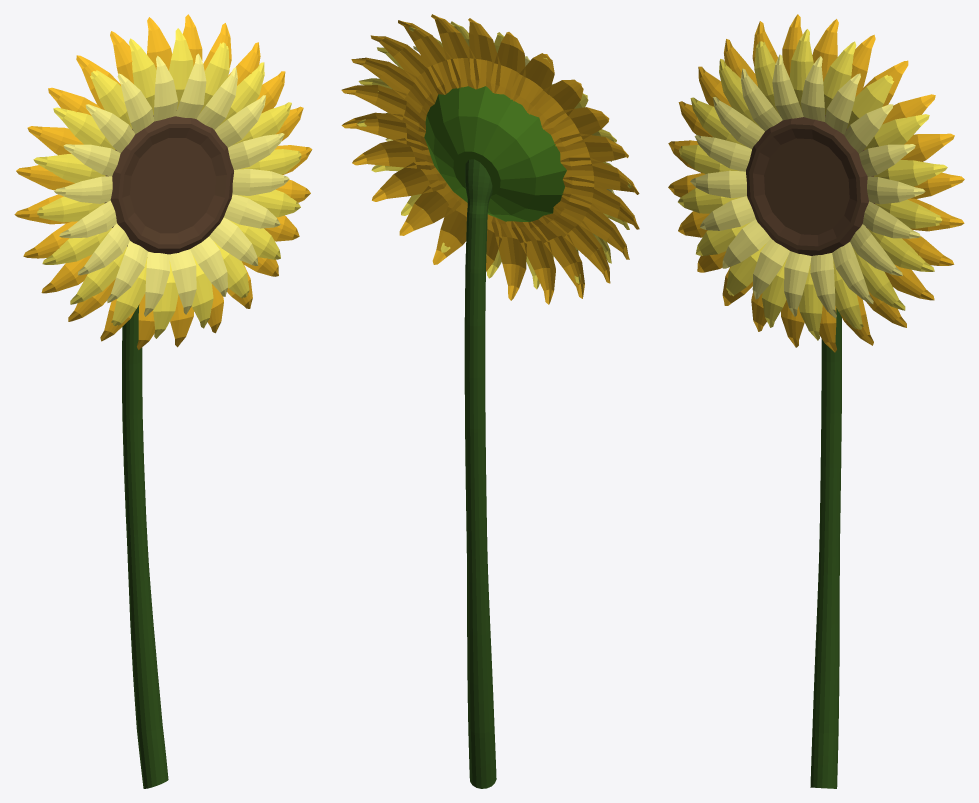
Rendered from flower3.fbx.
The picture shows the model from 3 angles, left to right: view 1: azimuth 30°, elevation 25°; view 2: azimuth 150°, elevation 25°; view 3: azimuth 330°, elevation 25°; orthographic projection.
Parts seen in each view (by area): view 1: top petals, mid petals, bottom petals, base, Circle; view 2: bottom petals, Circle, base, mid petals; view 3: top petals, mid petals, bottom petals, base, Circle.
Boxes of the visible parts, bbox=[...] form: top petals: bbox=[54, 53, 289, 316]; mid petals: bbox=[33, 28, 301, 338]; bottom petals: bbox=[14, 14, 312, 349]; base: bbox=[104, 110, 233, 254]; Circle: bbox=[122, 304, 168, 788]; bottom petals: bbox=[341, 14, 639, 304]; Circle: bbox=[464, 159, 496, 788]; base: bbox=[424, 86, 566, 221]; mid petals: bbox=[357, 21, 631, 289]; top petals: bbox=[690, 54, 925, 318]; mid petals: bbox=[678, 29, 947, 340]; bottom petals: bbox=[668, 14, 964, 352]; base: bbox=[746, 111, 875, 255]; Circle: bbox=[810, 308, 841, 788].
Bounding box in the file's own units: 417 × 1028 × 130.
